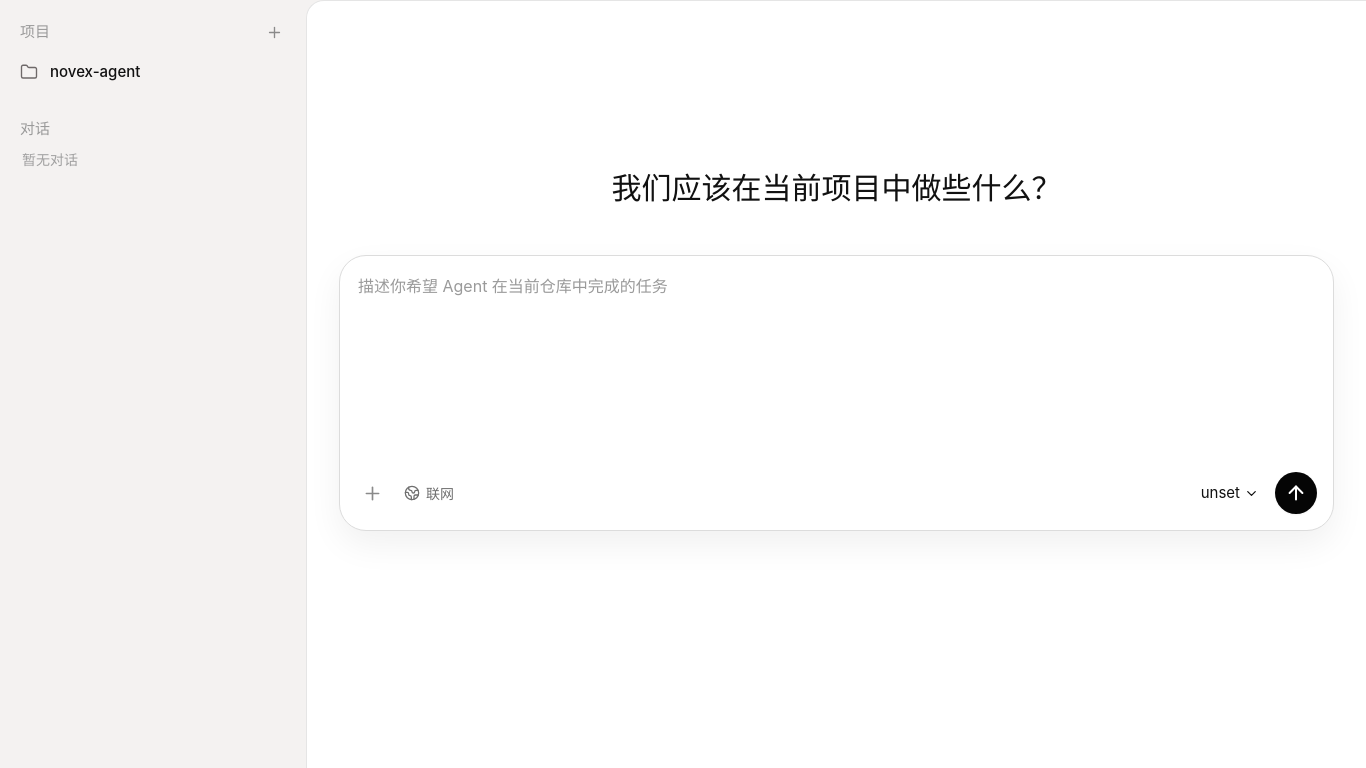
Test: Codex app POC page › keeps earlier turns visible when submitting another prompt in the same project
Type "first prompt" into the text box named "任务输入". click: (836, 364)
box: [356,272,1317,454]
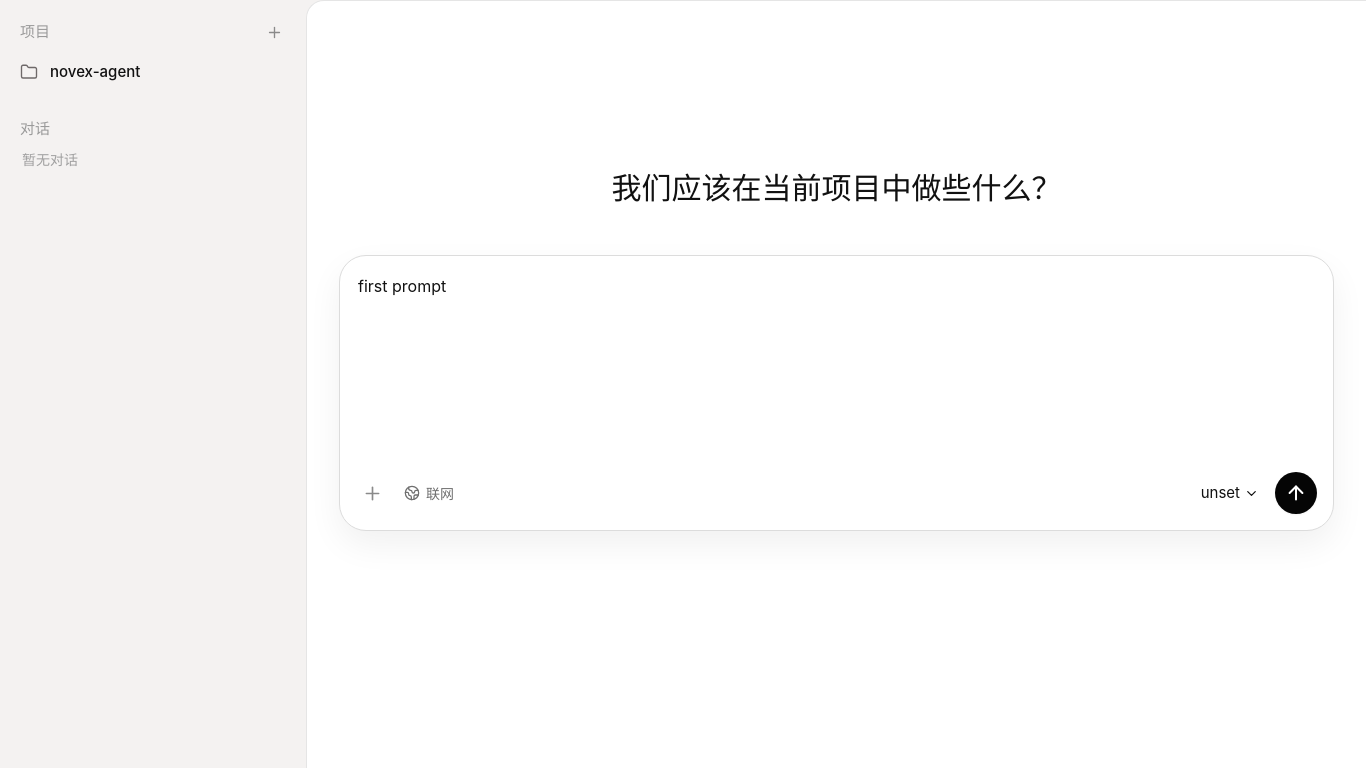
Click the button named "发送". click: (1296, 494)
box: [1275,472,1317,514]
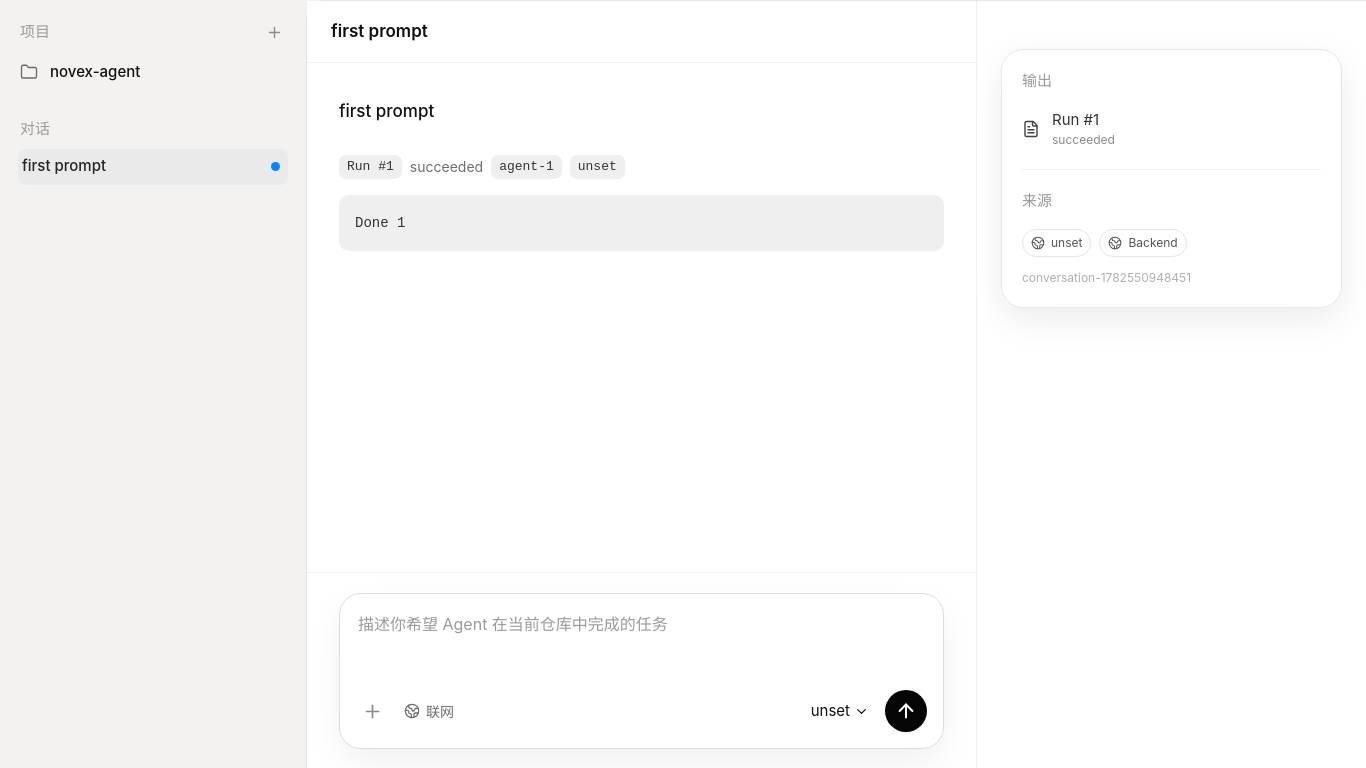
expect the text "Done 1" is shown: met, box [355,214,405,230]
Type "second prompt" into the text box named "任务输入". click: (642, 641)
box: [356,610,927,672]
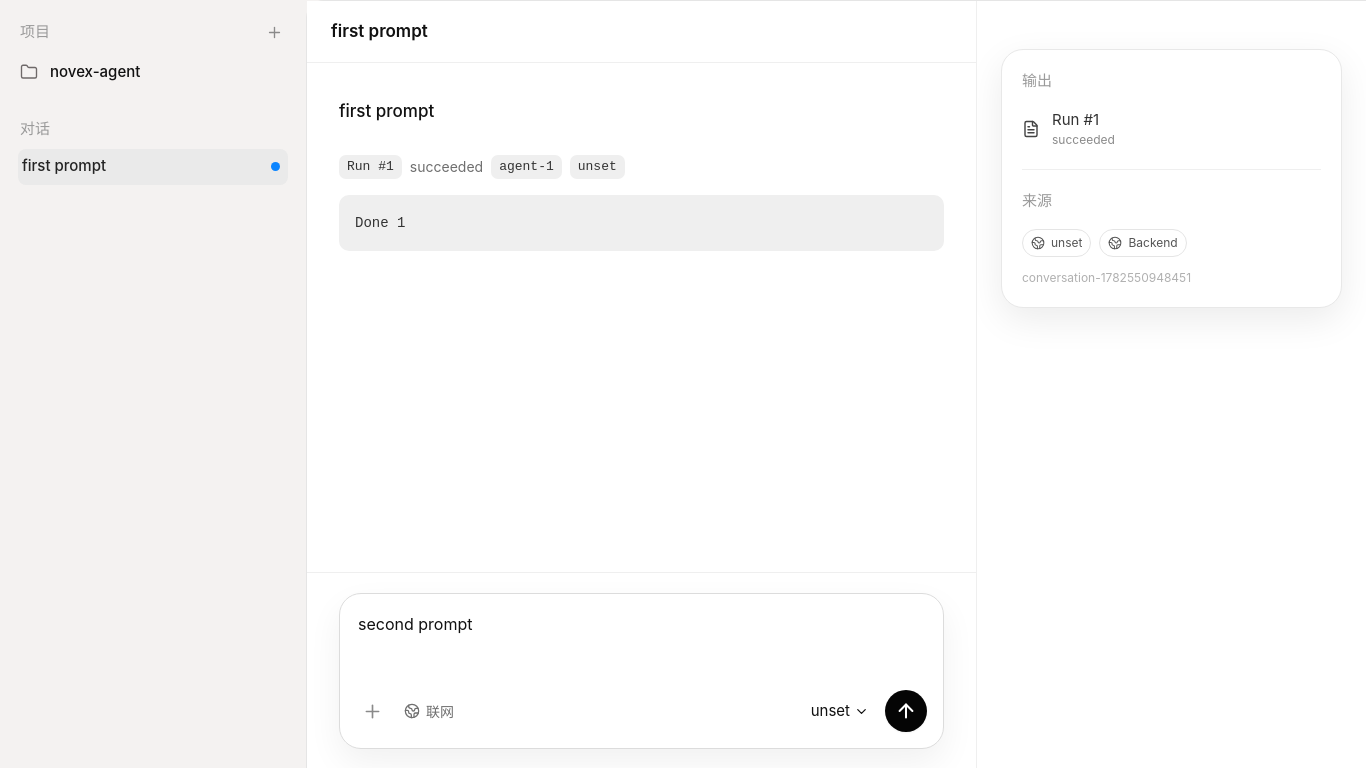
Click the button named "发送". click: (906, 711)
box: [885,690,927,732]
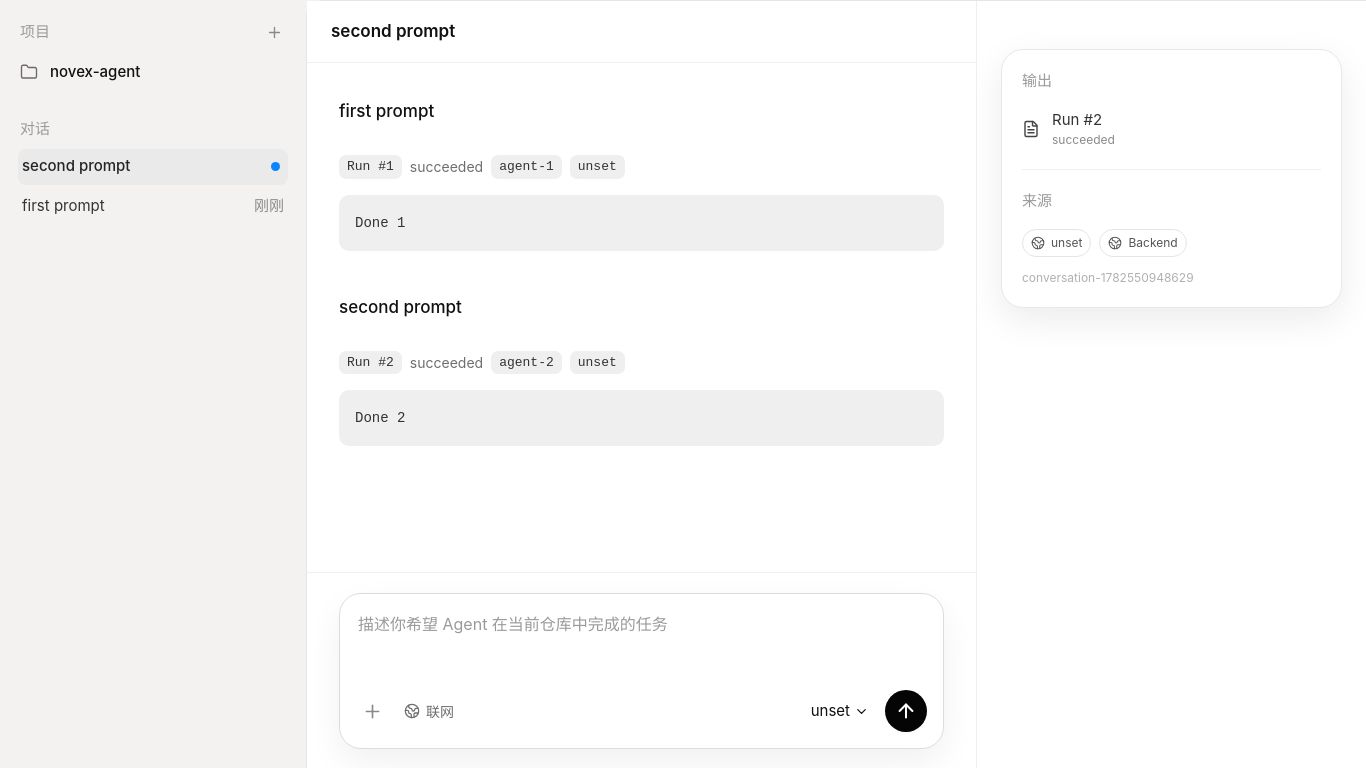
expect the text "first prompt" below "对话" is shown: met, box [22,196,105,215]
expect the text "Done 1" is shown: met, box [355,214,405,230]
expect the text "Done 2" is shown: met, box [355,410,405,426]
